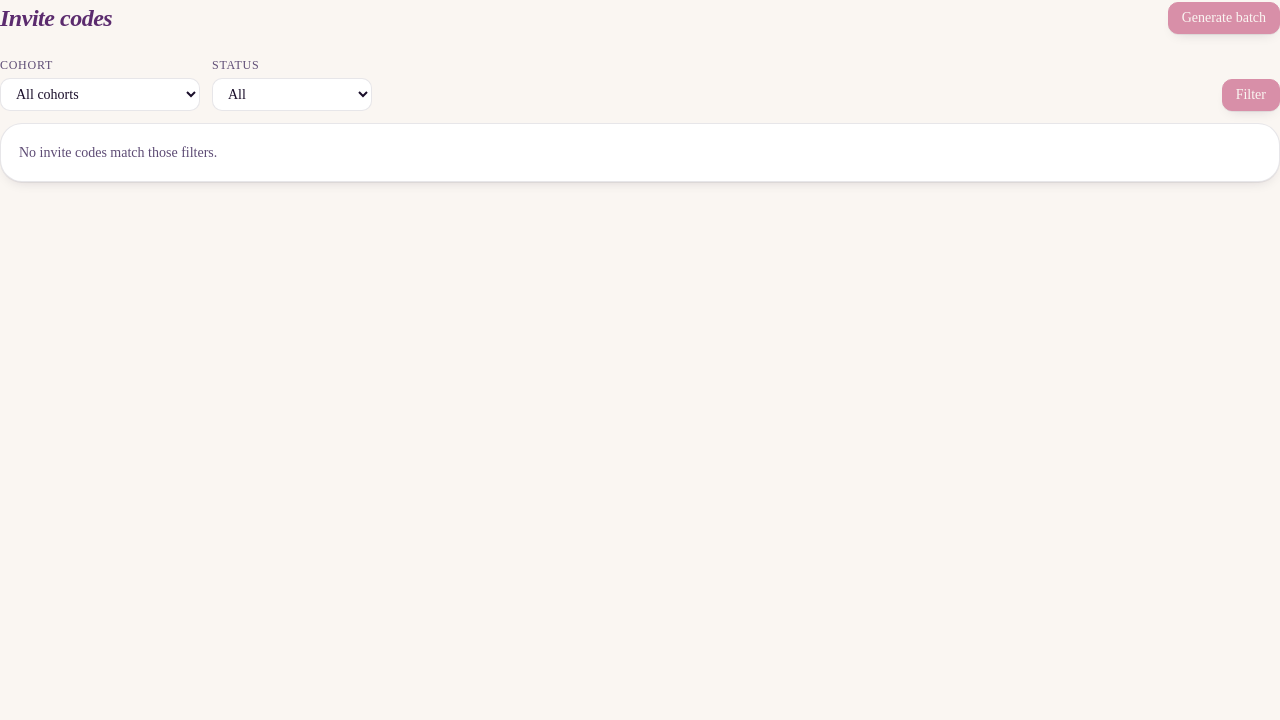
it: Invites page › renders empty state when there are no invites and opens the modal on click
Note: Click the button — modal should mount with the form.
Click the button "Generate batch" at (1224, 18), box [1168,2,1279,34]
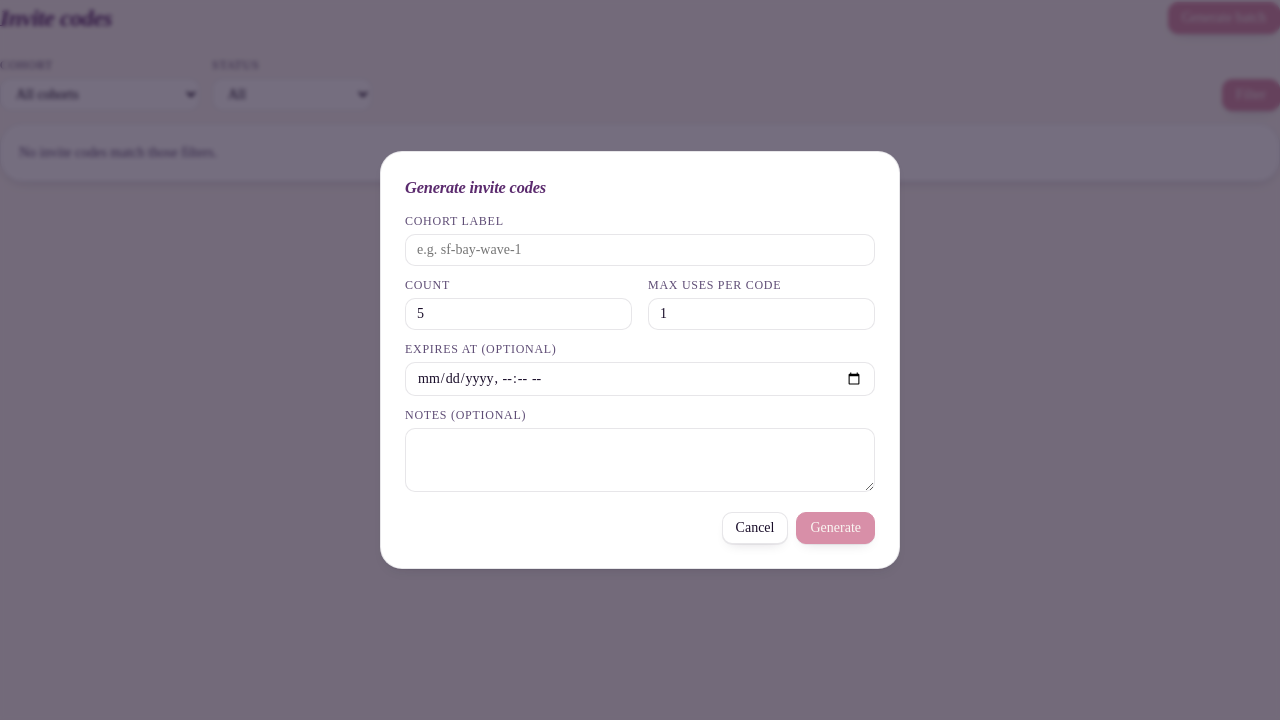
Now the element with class "modal" is shown, box [380,151,900,569]
Now the element with class "modal" shows "Generate invite codes", box [405,178,546,197]
